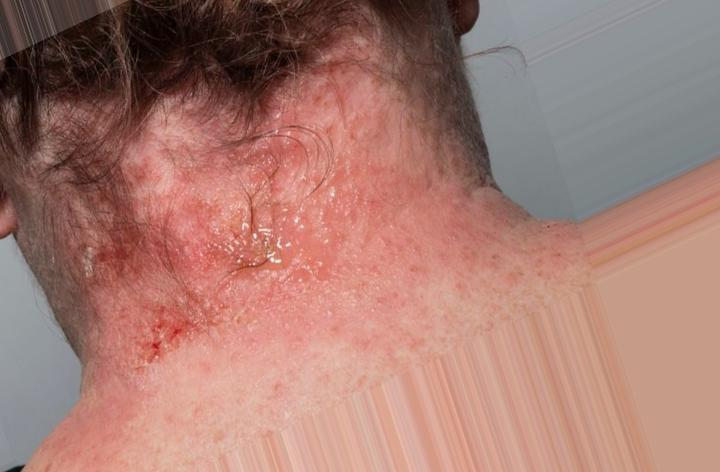Contact Dermatitis: (43, 91, 496, 339)
